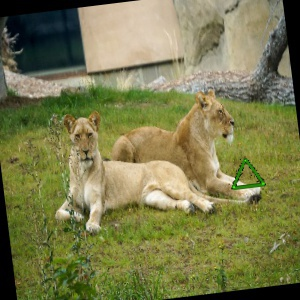triangle: (228, 155, 269, 190)
